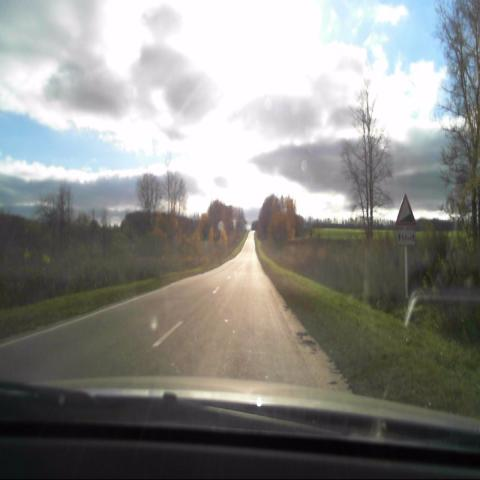1_14: (396, 191, 416, 227)
